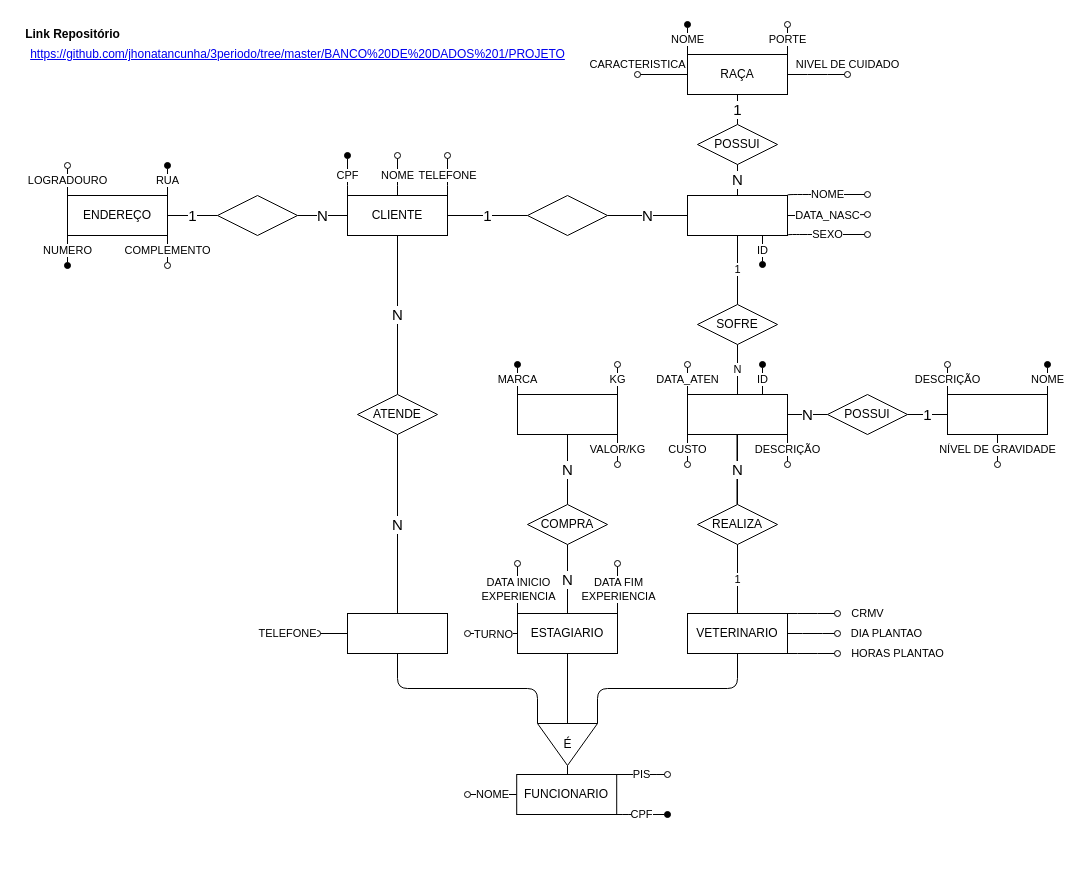
Some shapes in this 1081 by 872 pixel diagram are drawn without their labels. Each missing label, with the centre of its shape:
"ADOTA" belongs at point 567,215.
"ATENDIMENTO" belongs at point 737,414.
"CACHORRO" belongs at point 737,215.
"MORA" belongs at point 257,215.
"RAÇÃO" belongs at point 567,414.
"RECEPCIONISTA" belongs at point 397,633.
"TIPO" belongs at point 997,414.
